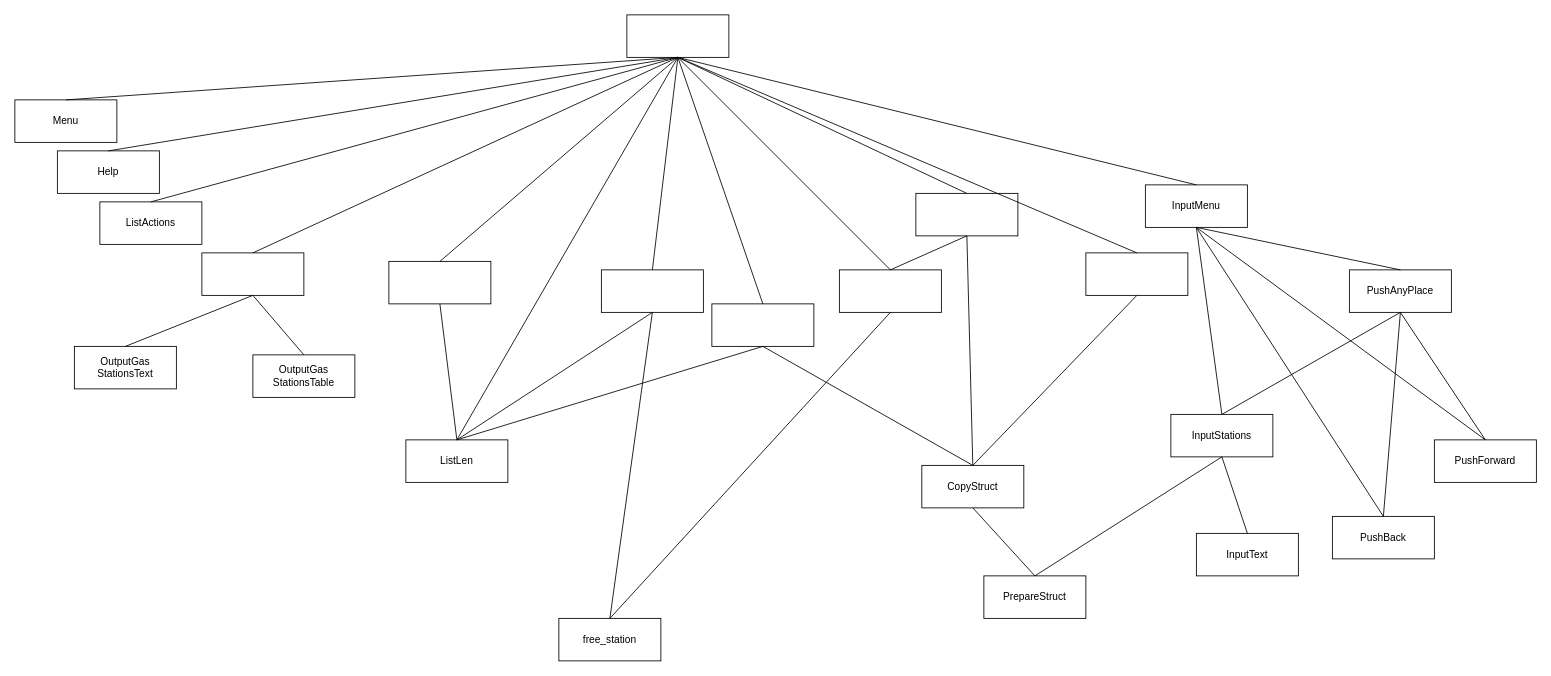
The diagram is 1551 pixels wide and 676 high, and some of its shapes have lost their labels. The shapes that lost their labels are listed below. From the top down, each one's centre as x and y in pixels, then its label:
pixel 677 35: main
pixel 966 214: GetItem
pixel 252 273: OutputMenu
pixel 439 282: Swap
pixel 652 290: DeleteItem
pixel 890 290: free_list
pixel 1136 273: Process
pixel 762 324: SortByRating
